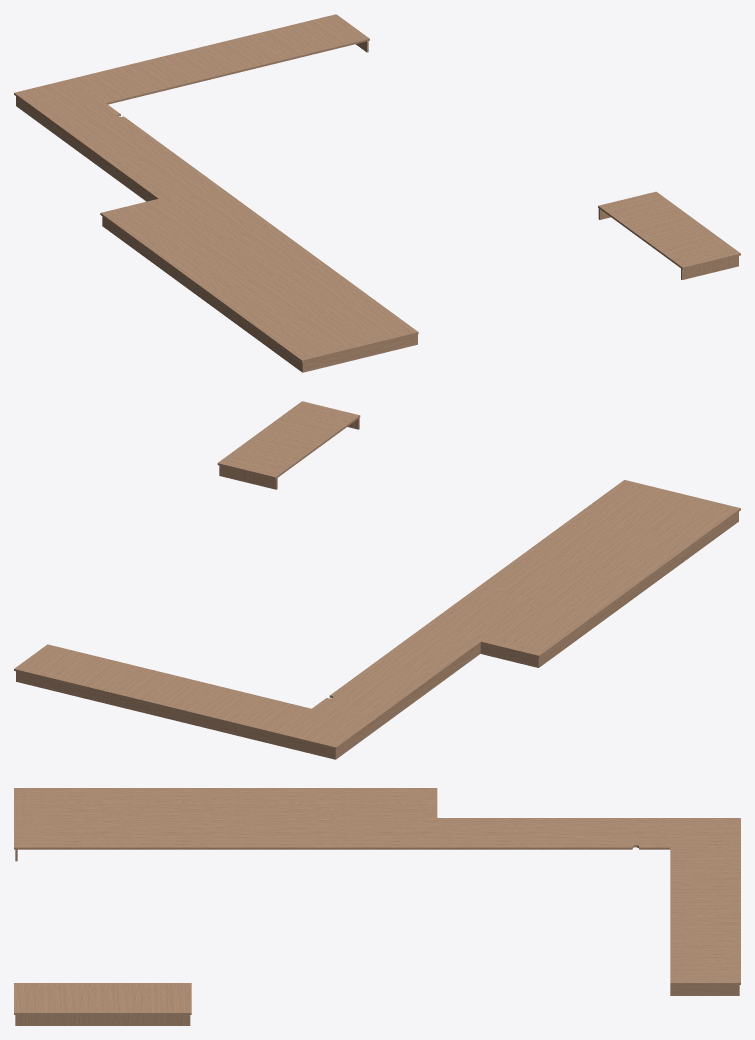
The model's file is Base_1_Plus_Deck.glb.
3 renders of one model, top to bottom at view 1: azimuth 30°, elevation 25°; view 2: azimuth 150°, elevation 25°; view 3: azimuth 270°, elevation 25°, orthographic. The views are drawn at different scales.
Visible parts, largest first — view 1: Deck-Plus; view 2: Deck-Plus; view 3: Deck-Plus.
Part boxes in pixels (x1,y1,x2,y2): Deck-Plus: (14,14,740,372); Deck-Plus: (14,401,740,759); Deck-Plus: (14,788,740,1025).
Bounding box in the file's own units: 3.61 × 0.1026 × 4.94.
Materials: 1 (1 with a texture image).
